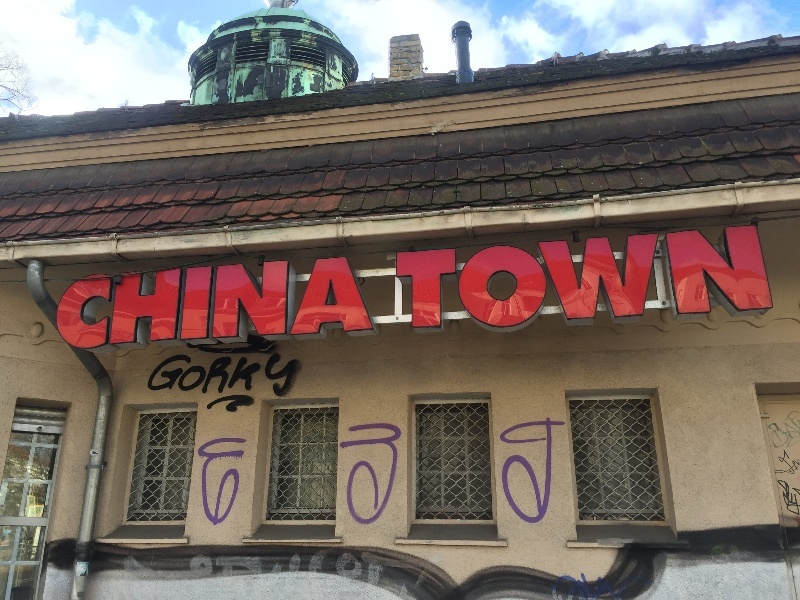text: (513, 414, 528, 531), (529, 414, 544, 531), (545, 414, 560, 531), (353, 422, 368, 530), (369, 422, 384, 530), (385, 422, 400, 530), (401, 226, 416, 331), (417, 226, 432, 331), (433, 226, 448, 331), (449, 226, 464, 331), (465, 226, 480, 331), (481, 226, 496, 331), (497, 226, 512, 331), (513, 226, 528, 331), (529, 226, 544, 331), (545, 226, 560, 331), (561, 226, 576, 331), (577, 226, 592, 331), (593, 226, 608, 331), (609, 226, 624, 331), (625, 226, 640, 331), (641, 226, 656, 331), (657, 226, 672, 331), (673, 226, 688, 331), (689, 226, 704, 331), (705, 226, 720, 331), (721, 226, 736, 331), (737, 226, 752, 331), (753, 226, 768, 331), (209, 436, 224, 531), (225, 436, 240, 531), (65, 257, 80, 351), (81, 257, 96, 351), (97, 257, 112, 351), (113, 257, 128, 351), (129, 257, 144, 351), (145, 257, 160, 351), (161, 257, 176, 351), (177, 257, 192, 351), (193, 257, 208, 351), (209, 257, 224, 351), (225, 257, 240, 351), (241, 257, 256, 351), (257, 257, 272, 351), (273, 257, 288, 351), (289, 257, 304, 351), (305, 257, 320, 351), (321, 257, 336, 351), (337, 257, 352, 351), (353, 257, 368, 351), (241, 436, 254, 531), (341, 422, 352, 530), (502, 414, 512, 531), (199, 436, 208, 531), (401, 422, 408, 530), (561, 414, 567, 531), (161, 354, 176, 398), (177, 354, 192, 398), (193, 354, 208, 398), (209, 354, 224, 398), (225, 354, 240, 398), (241, 354, 256, 398), (257, 354, 272, 398), (273, 354, 288, 398), (289, 354, 302, 398), (369, 257, 375, 351), (59, 257, 64, 351), (396, 226, 400, 331), (769, 226, 773, 331), (157, 354, 160, 398)
